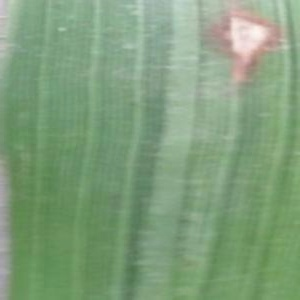Brown_Spot: (200, 6, 289, 84)
